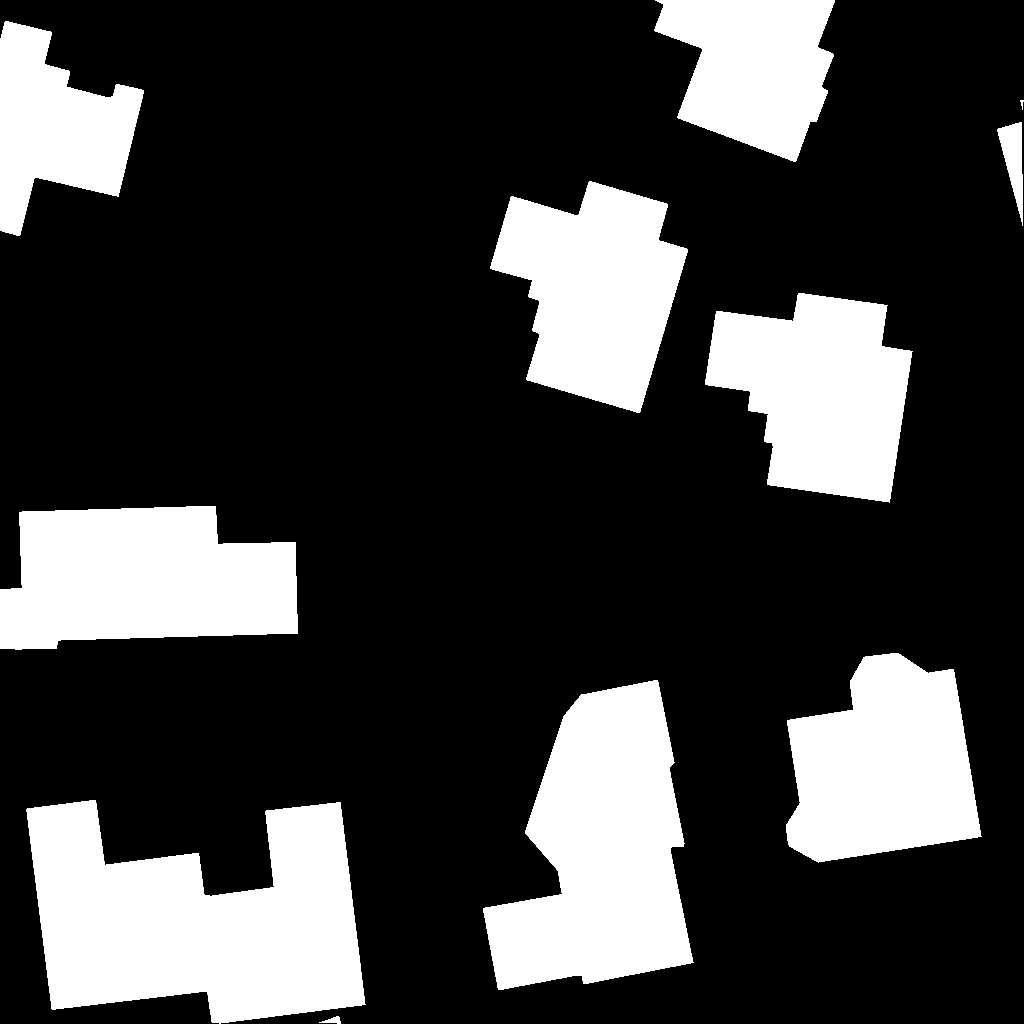building: (26, 800, 366, 1024), (483, 680, 694, 991), (490, 181, 689, 414), (705, 293, 913, 503), (0, 506, 299, 650), (786, 653, 982, 863), (0, 21, 145, 237), (654, 0, 836, 163), (997, 100, 1024, 228), (318, 1016, 342, 1024)
